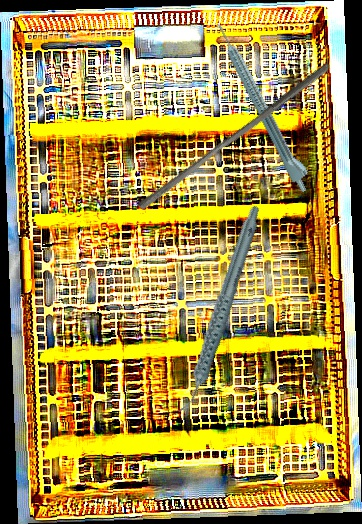Handpiece: (138, 203, 299, 416), (212, 17, 318, 195)
Pusher: (136, 54, 333, 218)
